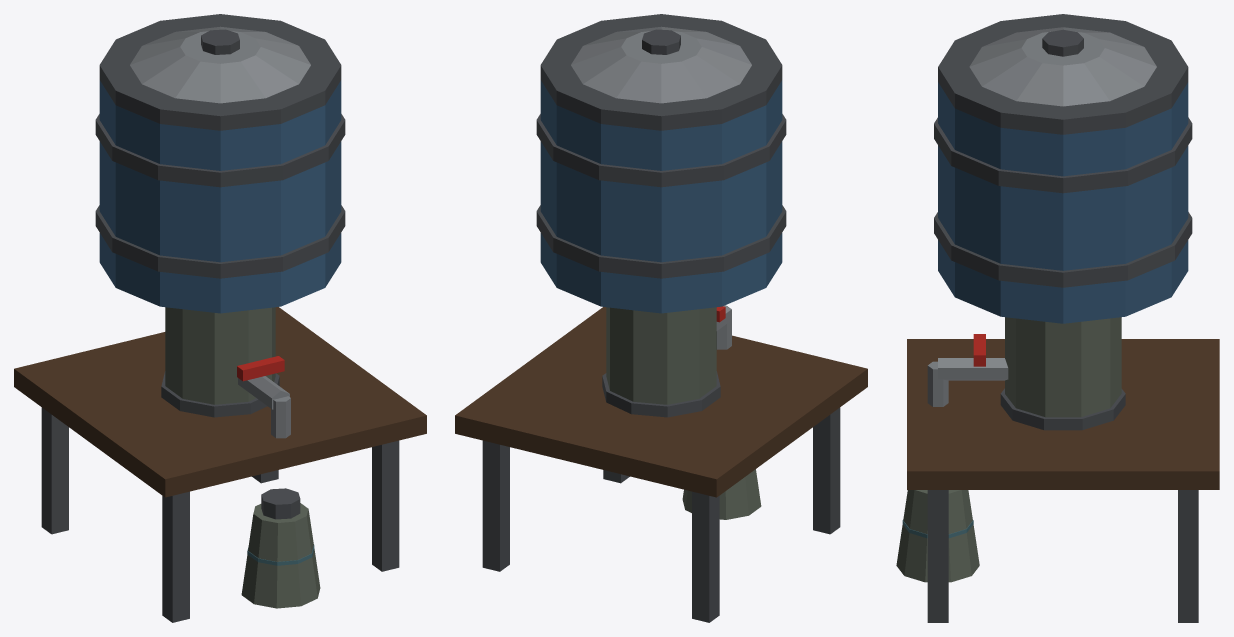
File: piece_filter.fbx
3 renders of one model, left to right at view 1: azimuth 30°, elevation 25°; view 2: azimuth 150°, elevation 25°; view 3: azimuth 270°, elevation 25°, orthographic. The views are drawn at different scales.
Parts seen in each view (by area): view 1: piece_filter; view 2: piece_filter; view 3: piece_filter.
Part boxes in pixels (x1=…): piece_filter: x1=14, y1=14, x2=426, y2=622; piece_filter: x1=455, y1=14, x2=867, y2=622; piece_filter: x1=896, y1=14, x2=1219, y2=622.
Size of the model in its own units: 0.75 by 1.39 by 0.775.
